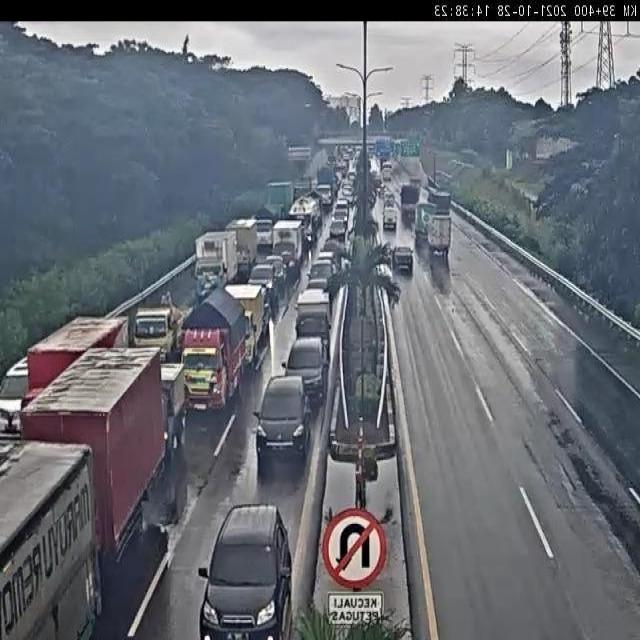Bus: (382, 162, 392, 182)
Car: (197, 503, 295, 637), (253, 374, 312, 465), (284, 335, 326, 408), (0, 356, 30, 433), (248, 262, 278, 304), (263, 252, 289, 291), (306, 259, 334, 283), (393, 245, 413, 274), (316, 249, 338, 273), (305, 274, 331, 294), (330, 216, 348, 242), (331, 204, 350, 224), (336, 196, 348, 211)
Truck: (18, 342, 164, 566), (0, 432, 97, 640), (178, 286, 251, 414), (25, 313, 131, 400), (131, 289, 193, 358), (224, 282, 264, 372), (194, 229, 240, 294), (160, 361, 188, 460), (222, 215, 258, 281), (295, 288, 331, 348), (286, 192, 322, 248), (272, 219, 306, 277), (251, 205, 280, 252), (427, 214, 452, 257), (266, 181, 293, 217), (415, 202, 437, 244), (400, 182, 420, 226), (315, 166, 335, 208), (426, 189, 454, 217), (293, 180, 313, 202)
Van: (382, 207, 398, 232), (383, 189, 395, 208)
